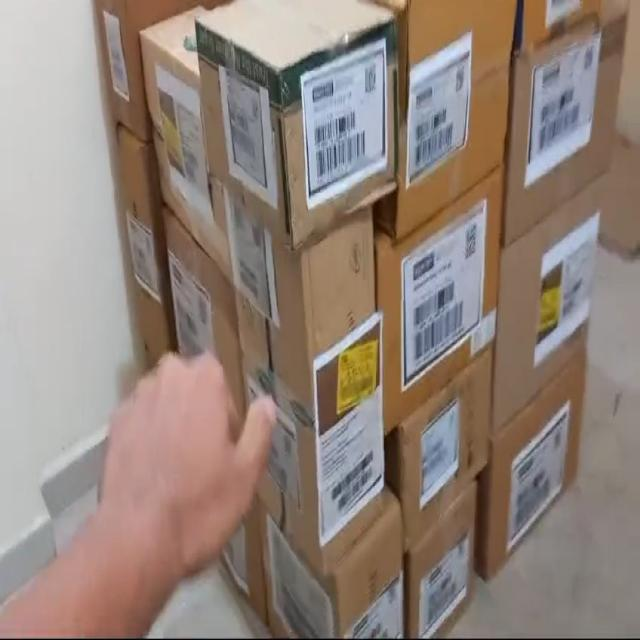BoxFace: (373, 157, 515, 450), (295, 208, 399, 563), (272, 4, 409, 252), (394, 0, 524, 257), (493, 158, 618, 422), (504, 0, 632, 247), (481, 336, 589, 593), (397, 344, 499, 566)
